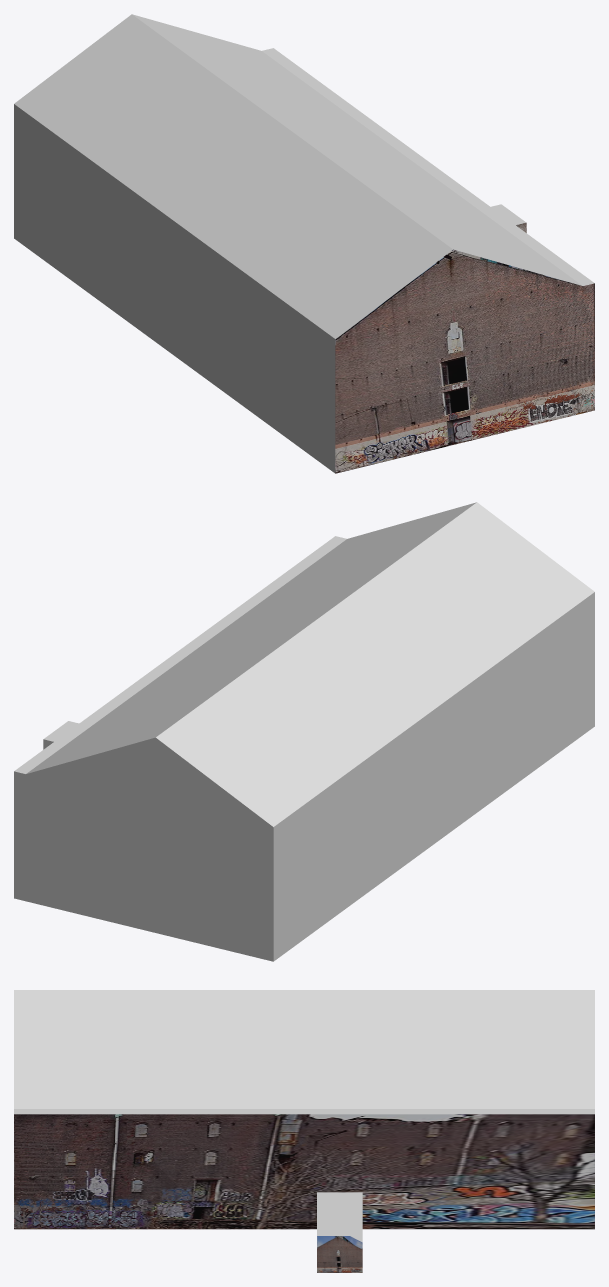
File: ENote Building.obj
3 views of the same model, one above another, from view 1: azimuth 30°, elevation 25°; view 2: azimuth 150°, elevation 25°; view 3: azimuth 270°, elevation 25° (orthographic). The views are drawn at different scales.
Visible parts, largest first — view 1: Mesh1 Model; view 2: Mesh1 Model; view 3: Mesh1 Model.
Part boxes in pixels (x1,y1,x2,y2): Mesh1 Model: [14, 14, 594, 473]; Mesh1 Model: [14, 502, 594, 961]; Mesh1 Model: [14, 990, 594, 1272].
Bounding box in the file's own units: 294 × 153 × 456.
Materials: 5 (4 with a texture image).
